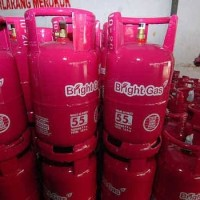bright_gas: (25, 7, 99, 158), (102, 9, 173, 158), (1, 15, 25, 147), (100, 149, 158, 200), (159, 131, 200, 200), (41, 156, 100, 200), (1, 144, 37, 200)
